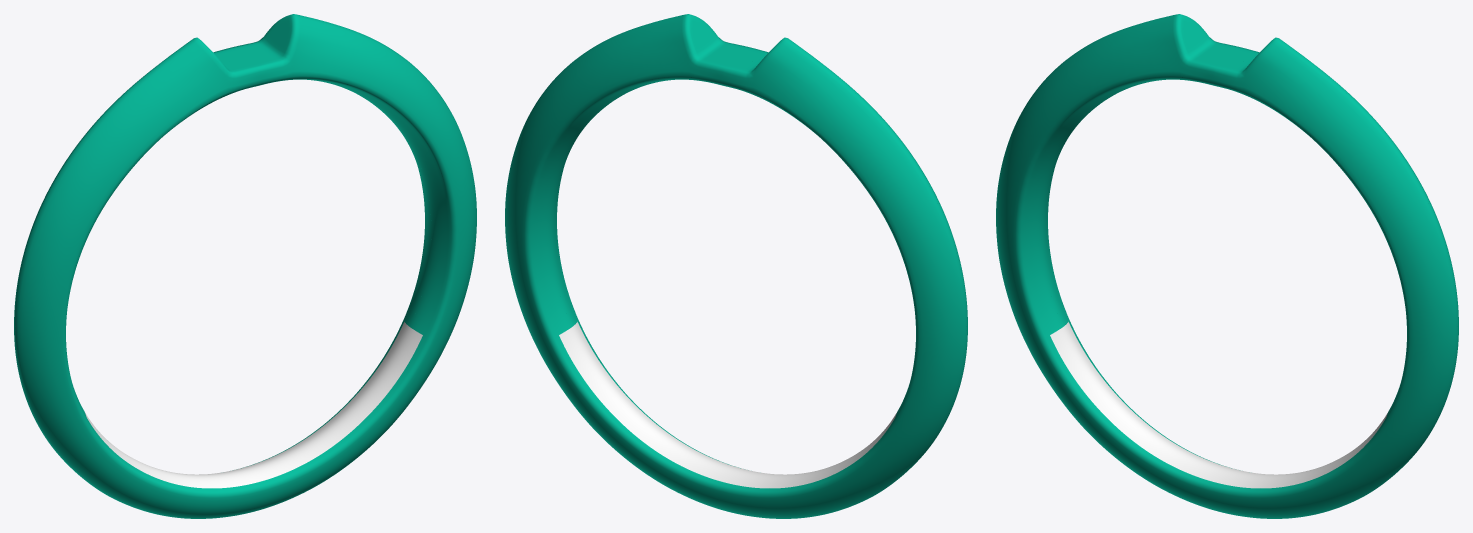
The model's file is ring1.glb.
3 views of the same model, side by side, from view 1: azimuth 30°, elevation 25°; view 2: azimuth 150°, elevation 25°; view 3: azimuth 330°, elevation 25° (orthographic).
Parts seen in each view (by area): view 1: MTL-SHANK-1 (×4), MTL-ENG-SHANK-1; view 2: MTL-SHANK-1 (×4), MTL-ENG-SHANK-1; view 3: MTL-SHANK-1 (×4), MTL-ENG-SHANK-1.
Part boxes in pixels (box(x1,y1,x2,y2)): MTL-SHANK-1 (×4): box(14, 14, 476, 518); MTL-ENG-SHANK-1: box(85, 322, 422, 488); MTL-SHANK-1 (×4): box(505, 14, 967, 518); MTL-ENG-SHANK-1: box(559, 322, 896, 488); MTL-SHANK-1 (×4): box(996, 14, 1458, 518); MTL-ENG-SHANK-1: box(1050, 322, 1387, 488).
Bounding box in the file's own units: 21.49 × 21.62 × 2.68.
